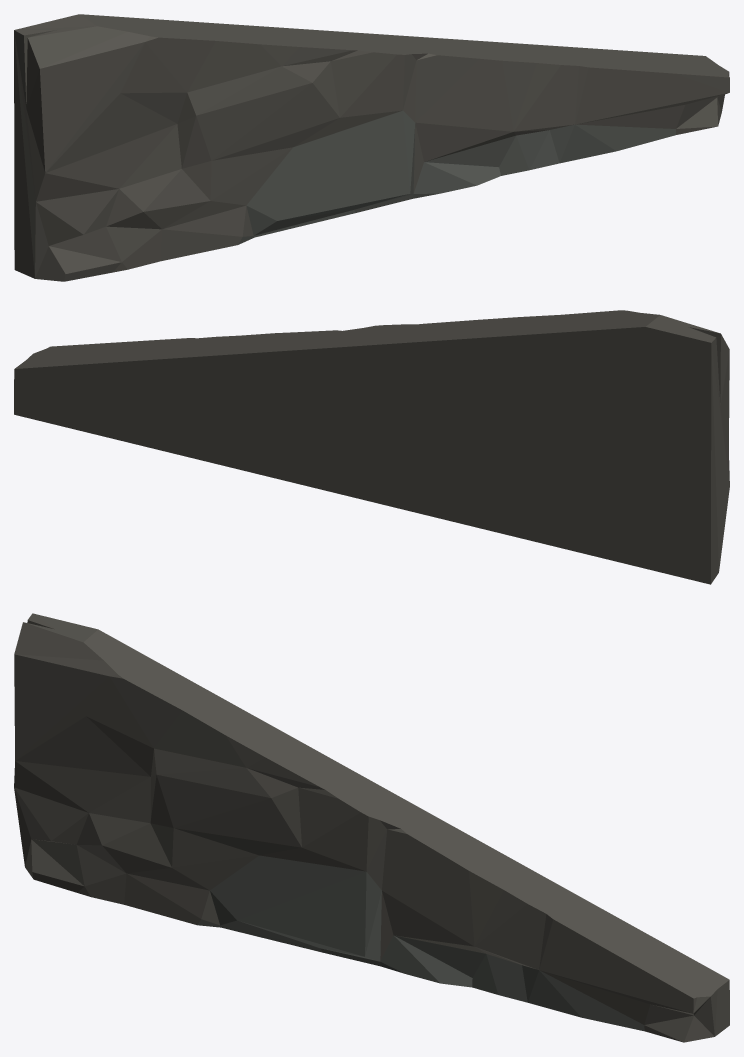
The model's file is MDungeons_Walls_Base_LowerThirdSloped_02.FBX.
The picture shows the model from 3 angles, top to bottom: view 1: azimuth 30°, elevation 25°; view 2: azimuth 150°, elevation 25°; view 3: azimuth 330°, elevation 25°; orthographic projection.
Parts seen in each view (by area): view 1: MDungeons_Walls_Base_LowerThirdSloped_02_LOD0; view 2: MDungeons_Walls_Base_LowerThirdSloped_02_LOD0; view 3: MDungeons_Walls_Base_LowerThirdSloped_02_LOD0.
Boxes of the visible parts, box(x1,y1,x2,y2) form: MDungeons_Walls_Base_LowerThirdSloped_02_LOD0: box(14, 14, 729, 281); MDungeons_Walls_Base_LowerThirdSloped_02_LOD0: box(14, 310, 729, 584); MDungeons_Walls_Base_LowerThirdSloped_02_LOD0: box(14, 613, 729, 1042).
Size of what is drawn, in the model's own units: 6 by 1.99 by 0.4979.
